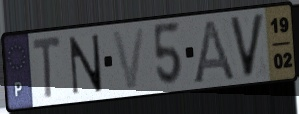5: (151, 20, 184, 90)
A: (190, 17, 237, 86)
N: (68, 32, 104, 97)
T: (30, 34, 63, 103)
V: (227, 11, 267, 80), (109, 25, 147, 92)
